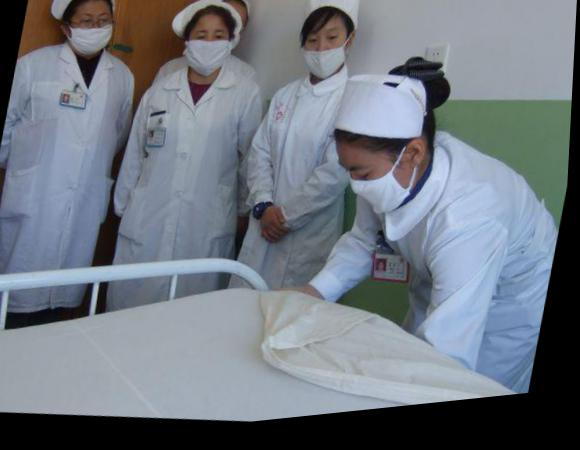OK: (337, 148, 425, 231), (185, 26, 237, 83), (68, 8, 118, 62)
WRONG: (299, 23, 358, 90)
